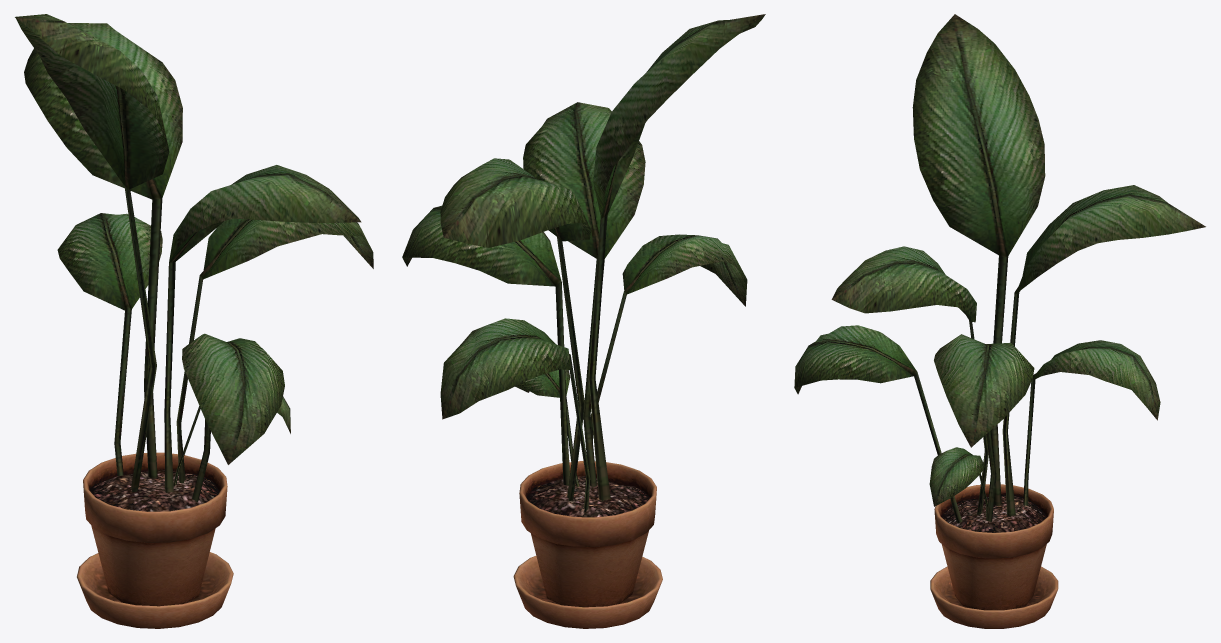
File: plant.obj
3 renders of one model, left to right at view 1: azimuth 30°, elevation 25°; view 2: azimuth 150°, elevation 25°; view 3: azimuth 270°, elevation 25°, orthographic. The views are drawn at different scales.
Parts seen in each view (by area): view 1: plant01; view 2: plant01; view 3: plant01.
Boxes of the visible parts, x1=… form: plant01: x1=15, y1=14, x2=373, y2=628; plant01: x1=402, y1=14, x2=765, y2=628; plant01: x1=794, y1=14, x2=1205, y2=628.
Bounding box in the file's own units: 1.55 × 2.58 × 1.83.
